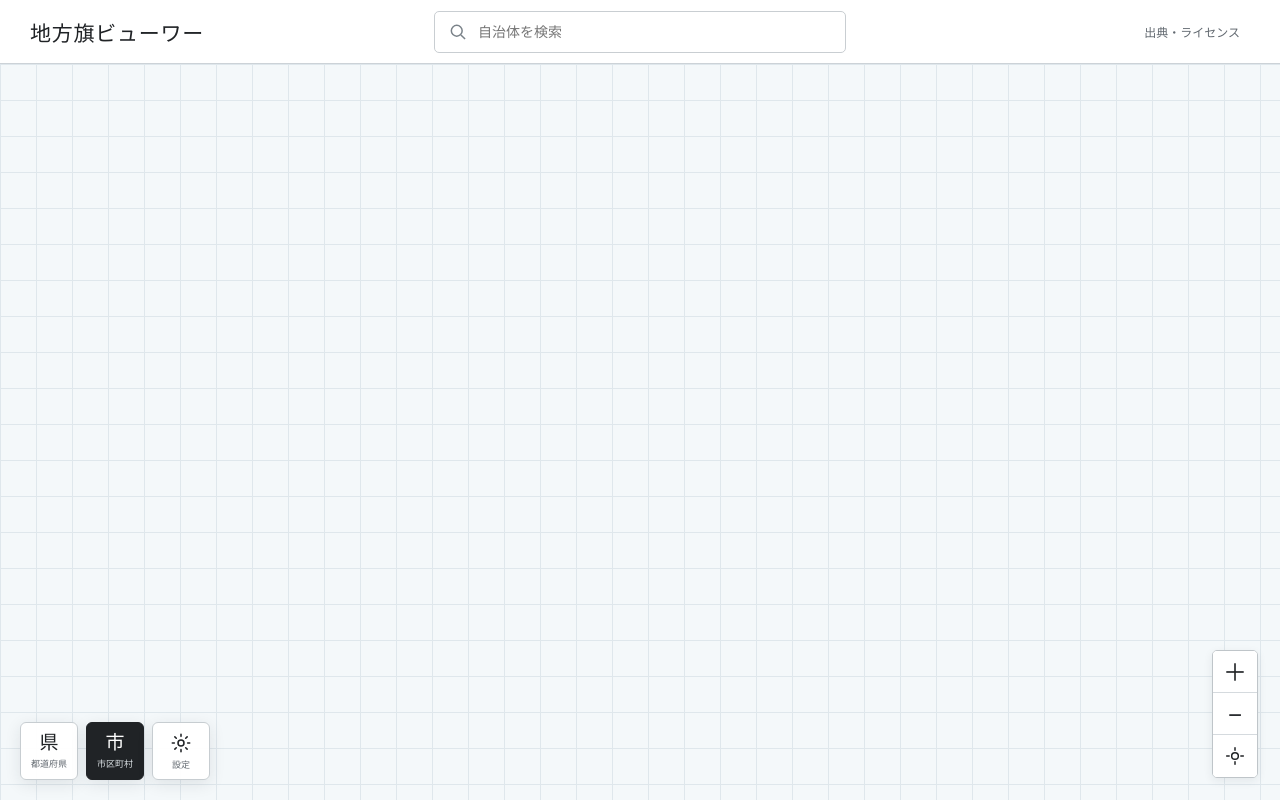
App › keeps map settings inside the settings popup
Step 1. Click the button with aria-label "地図の設定" → (181, 751), box [152, 722, 210, 780]
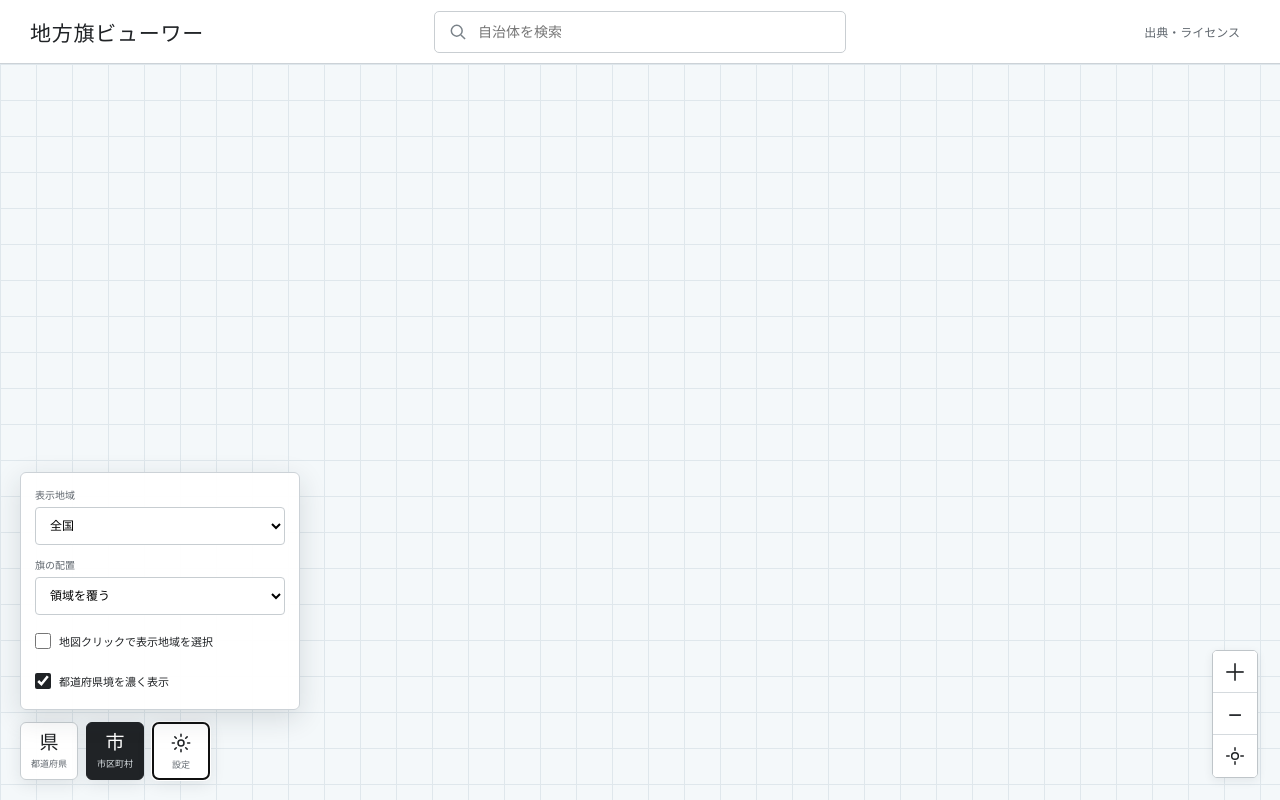
Expected: the dialog named "地図の設定" is shown, [20, 472, 300, 710]
Step 2. Select "意匠を強調" in the dropdown labelled "旗の配置" → (160, 596), box [35, 577, 285, 615]
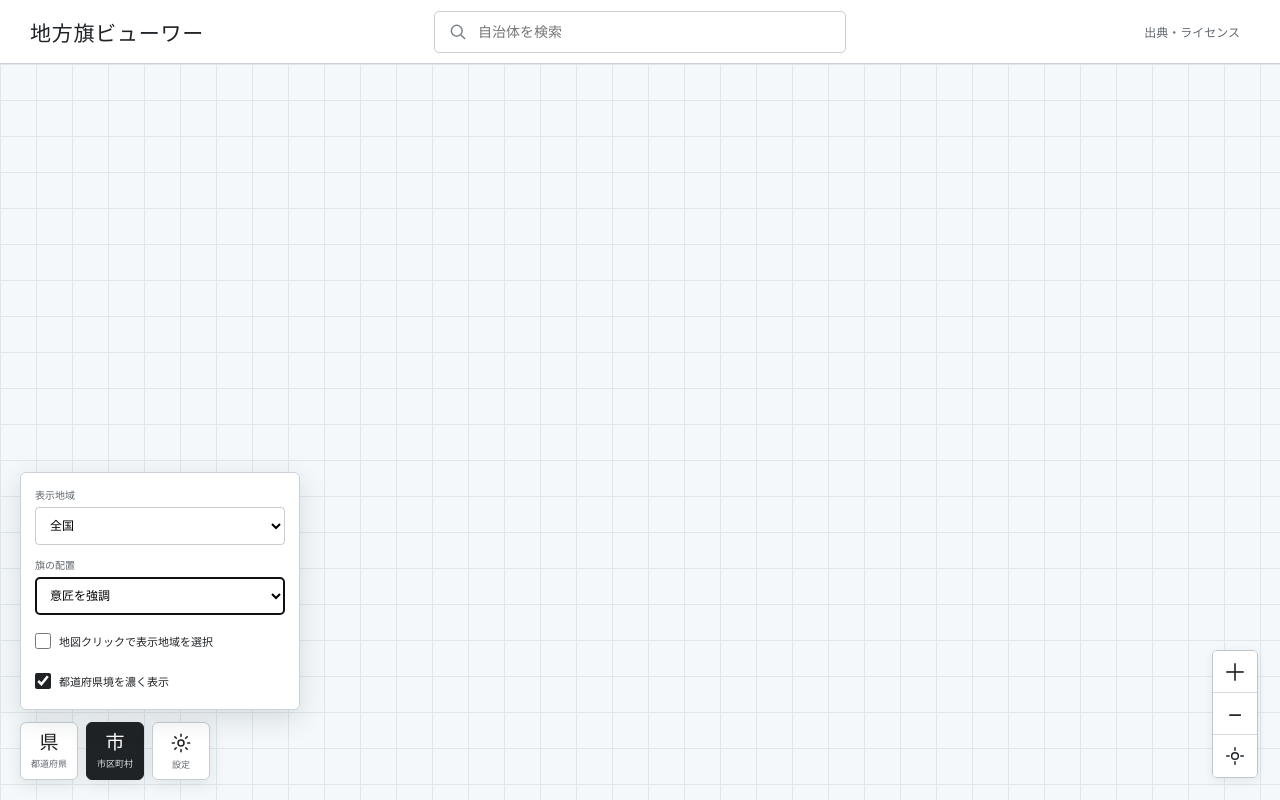
Expected: the checkbox labelled "地図クリックで表示地域を選択" is not checked
Step 3. Click the checkbox labelled "地図クリックで表示地域を選択" → (43, 641), box [35, 633, 51, 649]
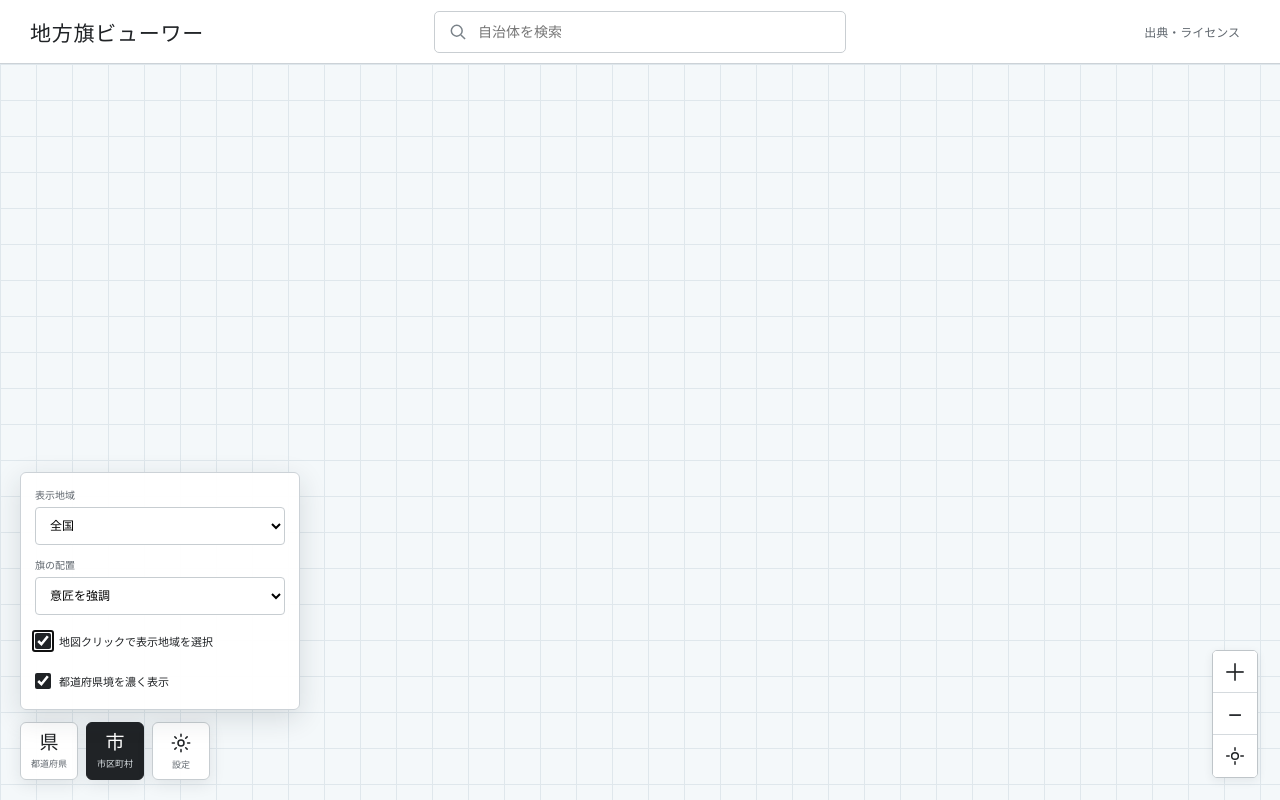
Expected: the checkbox labelled "地図クリックで表示地域を選択" is checked, [35, 633, 51, 649]
Expected: the checkbox labelled "都道府県境を濃く表示" is checked
Step 4. Click the checkbox labelled "都道府県境を濃く表示" → (43, 681), box [35, 673, 51, 689]
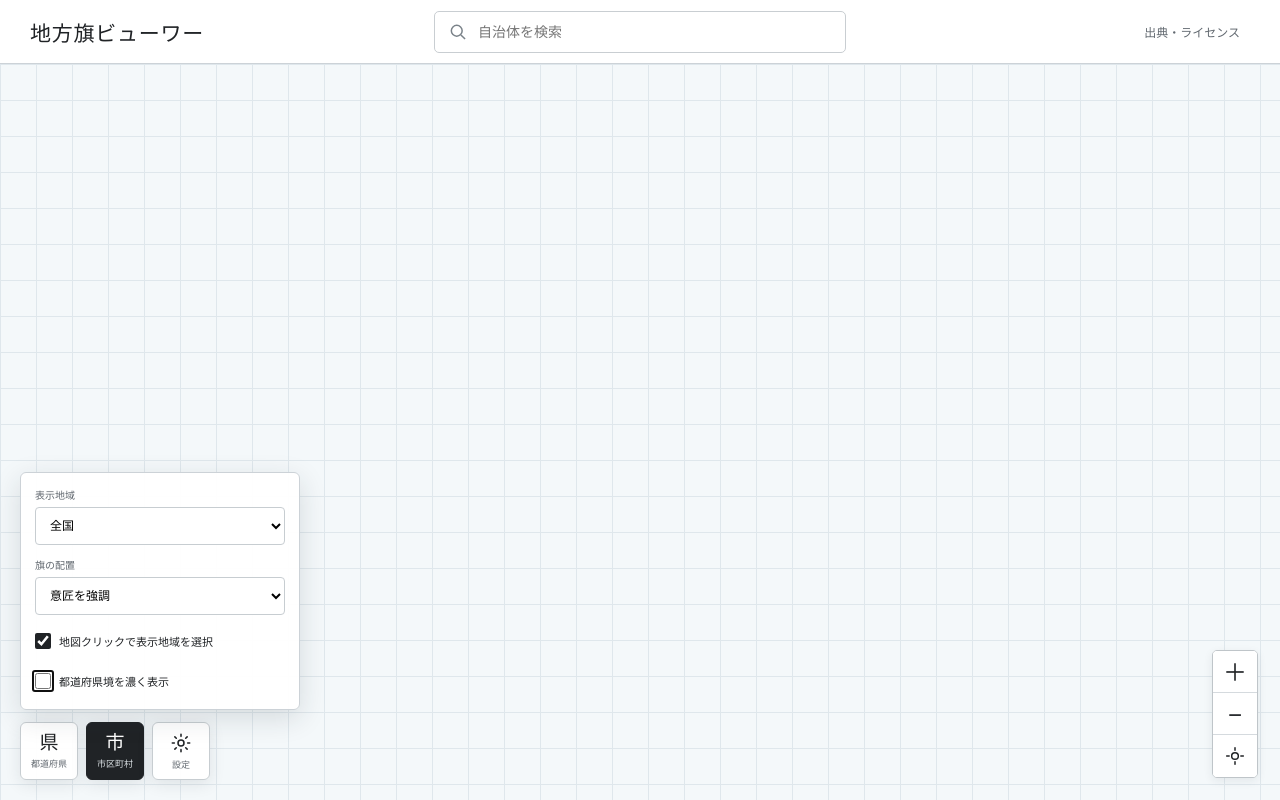
Expected: the checkbox labelled "都道府県境を濃く表示" is not checked, [35, 673, 51, 689]
Step 5. Click the button "県 都道府県" → (49, 751), box [20, 722, 78, 780]
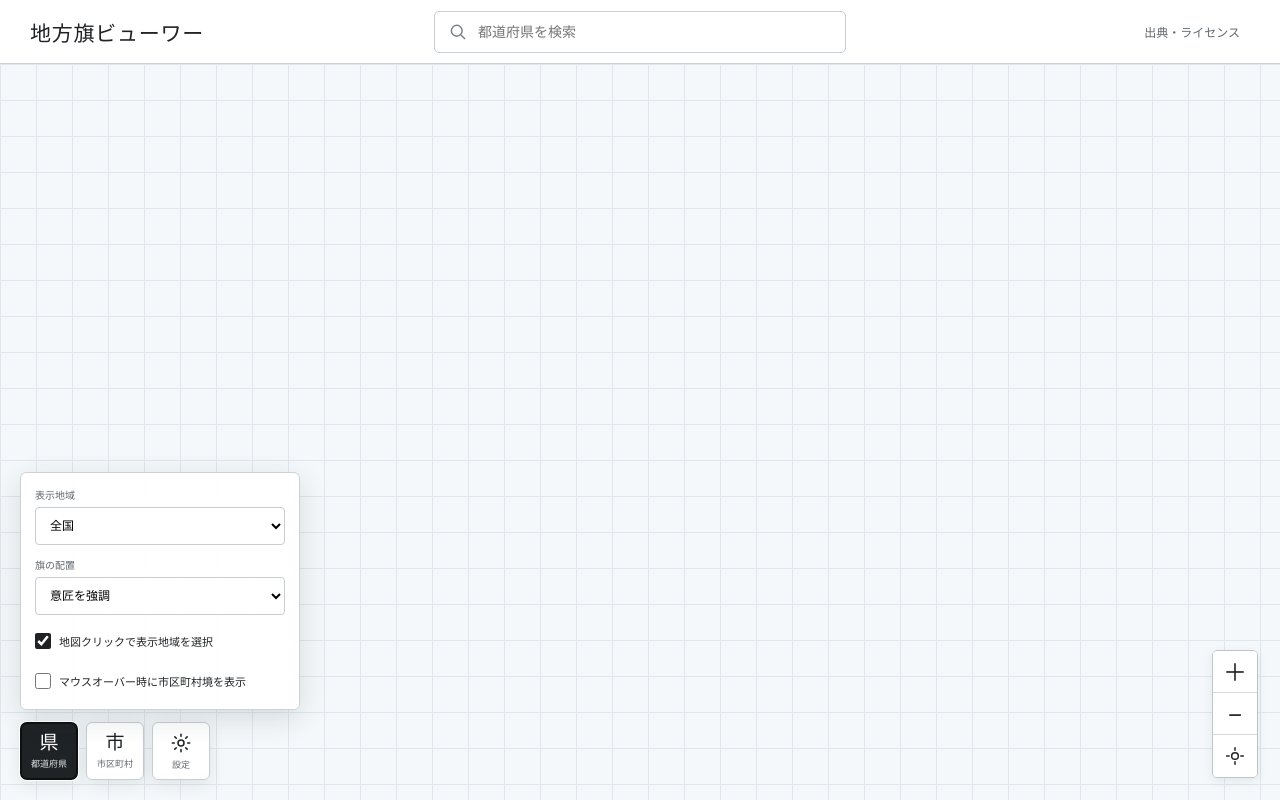
Expected: the checkbox labelled "マウスオーバー時に市区町村境を表示" is not checked
Step 6. Click the checkbox labelled "マウスオーバー時に市区町村境を表示" → (43, 681), box [35, 673, 51, 689]
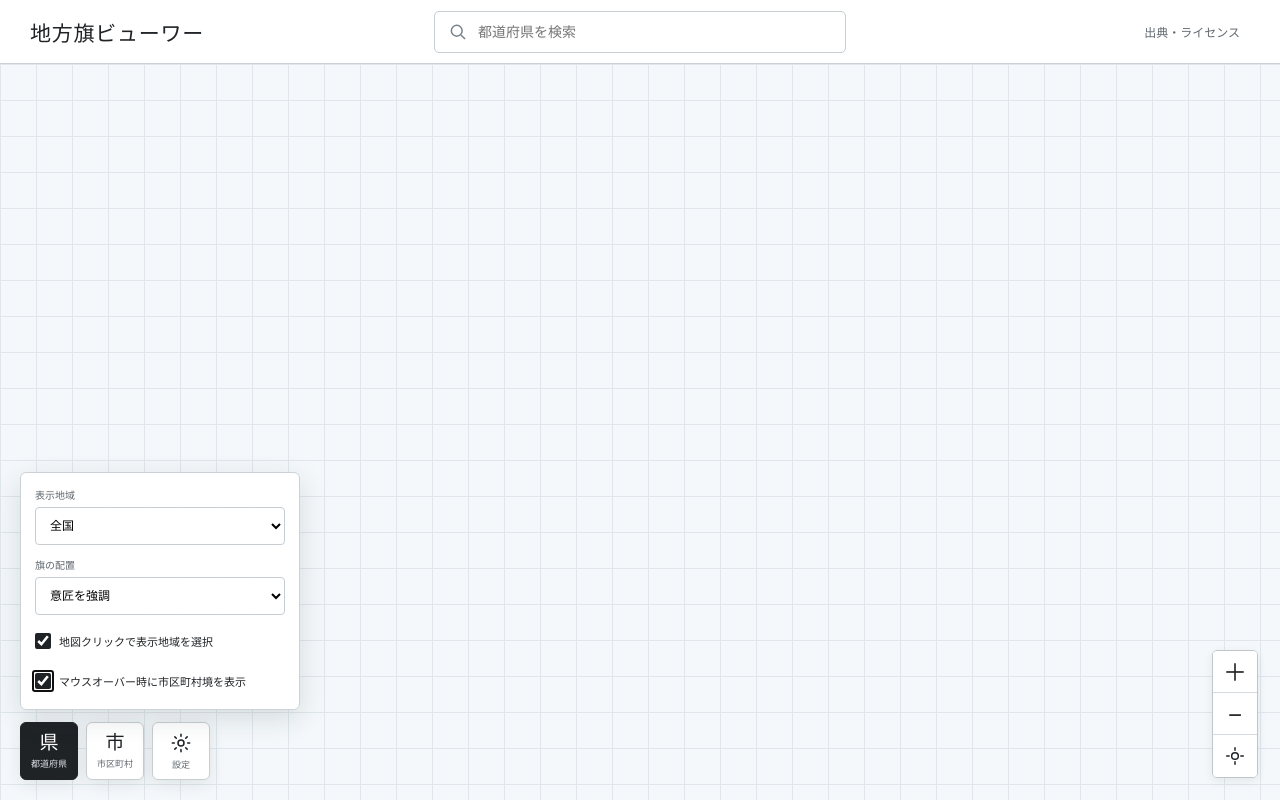
Expected: the checkbox labelled "マウスオーバー時に市区町村境を表示" is checked, [35, 673, 51, 689]
